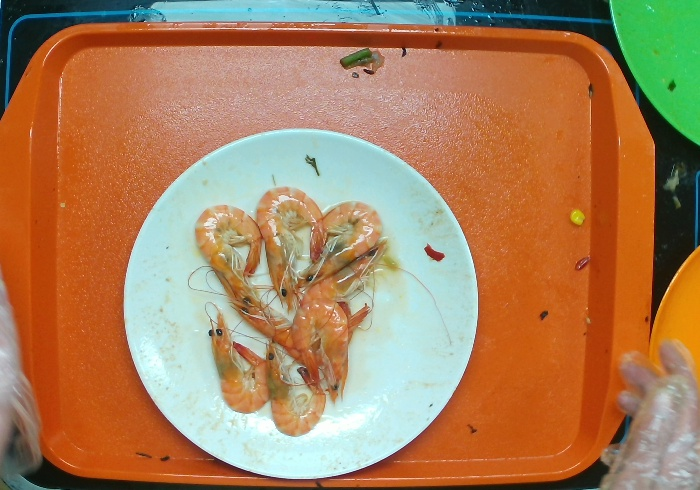HZYJPL-Bai_Se_Yuan_Pan: (121, 125, 479, 479)
